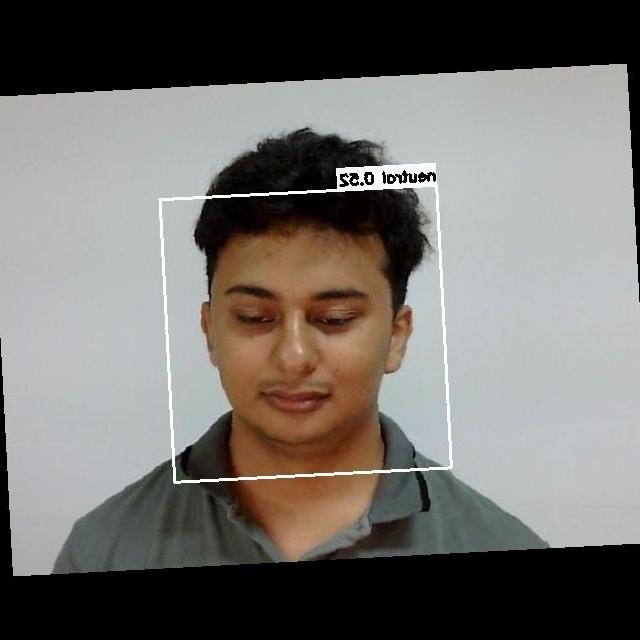Natural: (204, 267, 398, 433)
